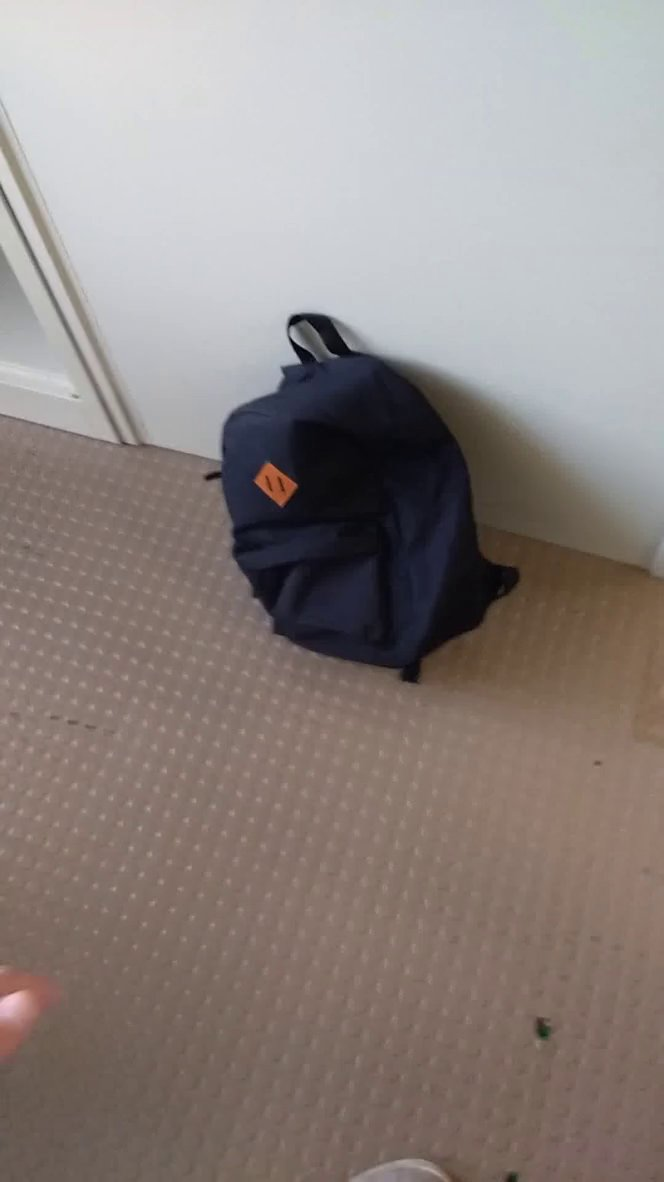bag: (197, 303, 531, 694)
